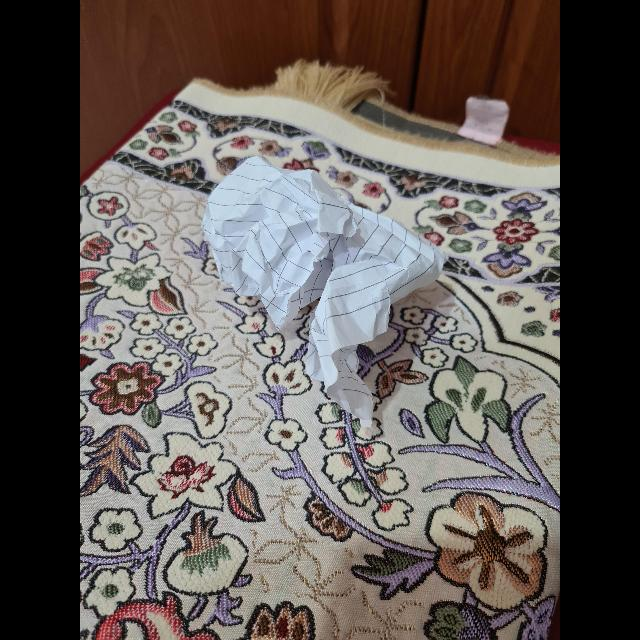scrap_paper: (192, 152, 440, 372)
